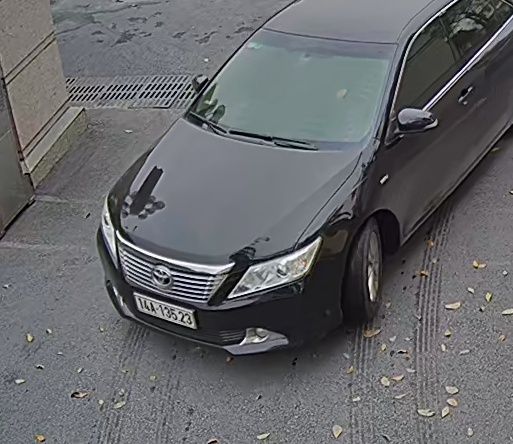vehicle plate: (131, 287, 198, 331)
